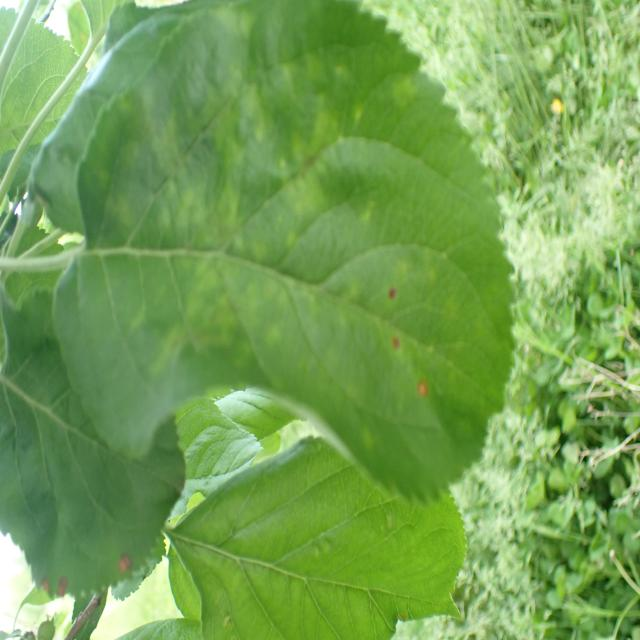Black Rot: (108, 538, 138, 594), (408, 375, 435, 413), (383, 329, 411, 363), (373, 278, 404, 303)
